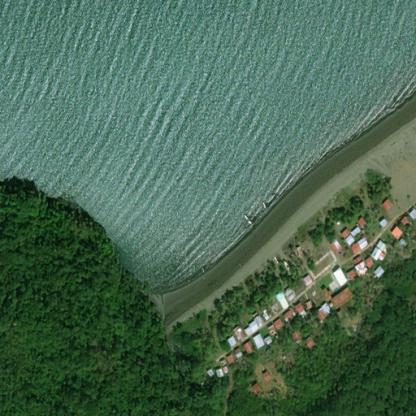ship: (239, 210, 254, 226), (258, 195, 268, 212)
